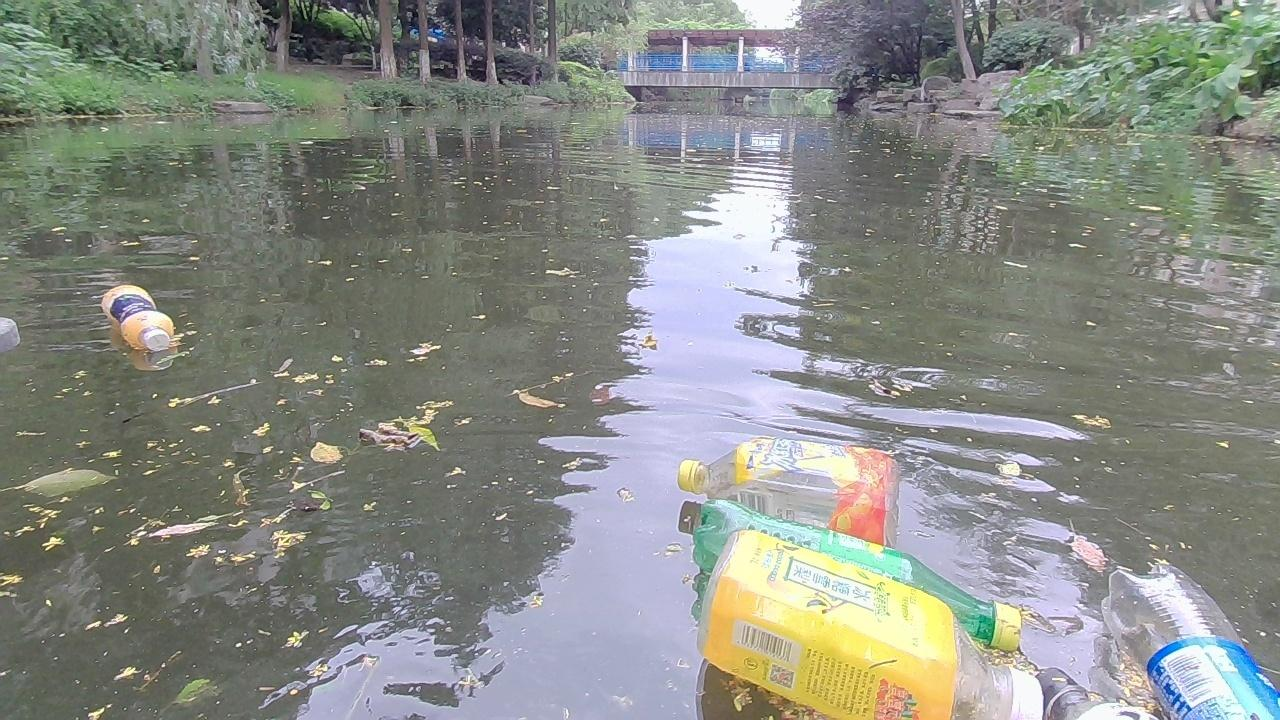bottle: (713, 537, 1040, 719), (691, 503, 1027, 647), (1098, 566, 1279, 718), (674, 435, 907, 547), (1032, 665, 1164, 719), (95, 279, 177, 347)
